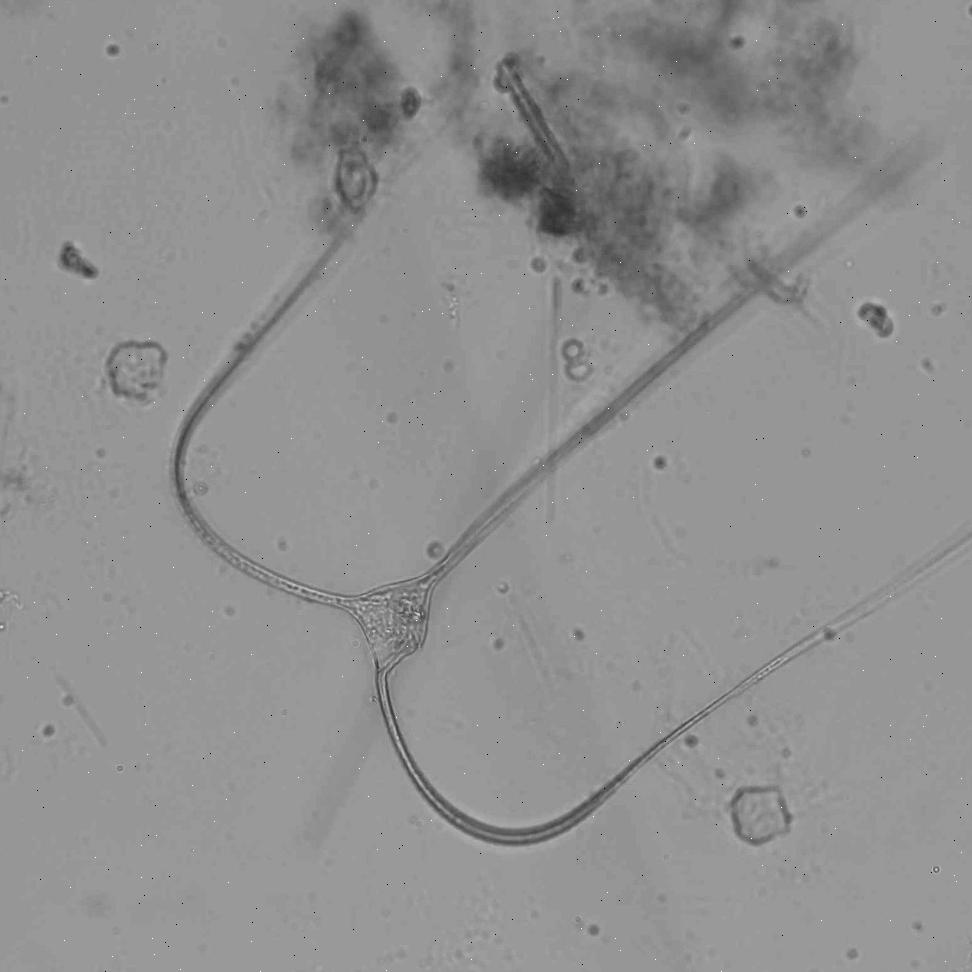ceratium_trichorecos: (173, 234, 972, 847)
